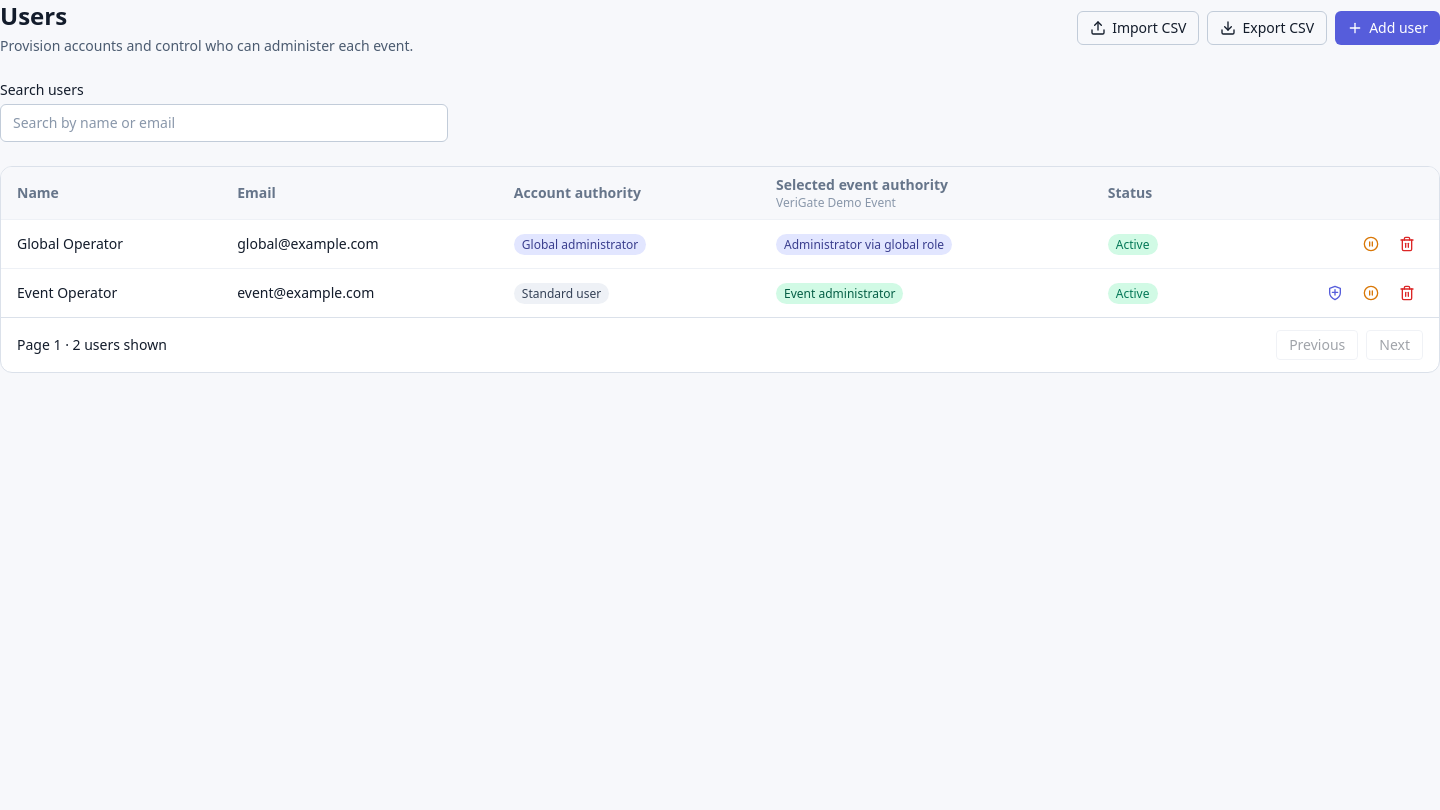
Test: event administration membership management › distinguishes global authority from event-scoped administration
Expected: the column heading "Selected event authority VeriGate Demo Event" is shown, [760,167,1092,220]
Expected: the text "Global administrator" is shown, [514,234,646,255]
Click the button named "manage event operator event administrator access" at [1335, 293], box [1319,277,1351,309]
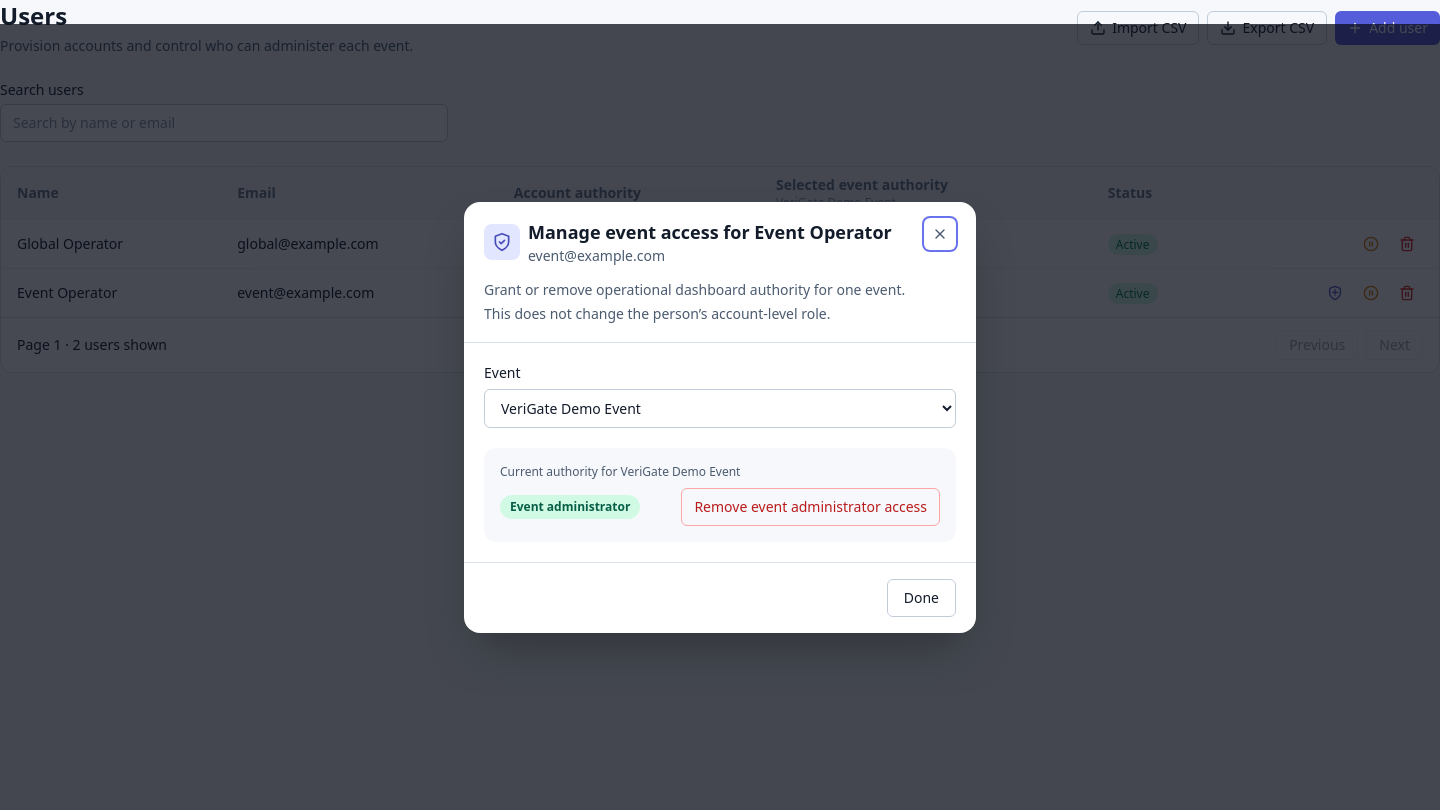
Expected: the text "Event administrator" is shown, [500,494,640,518]
Expected: the text "Current authority for VeriGate Demo Event" is shown, [500,462,740,480]
Press Escape in the dialog "Manage event access for Event Operator", box [464,202,976,632]
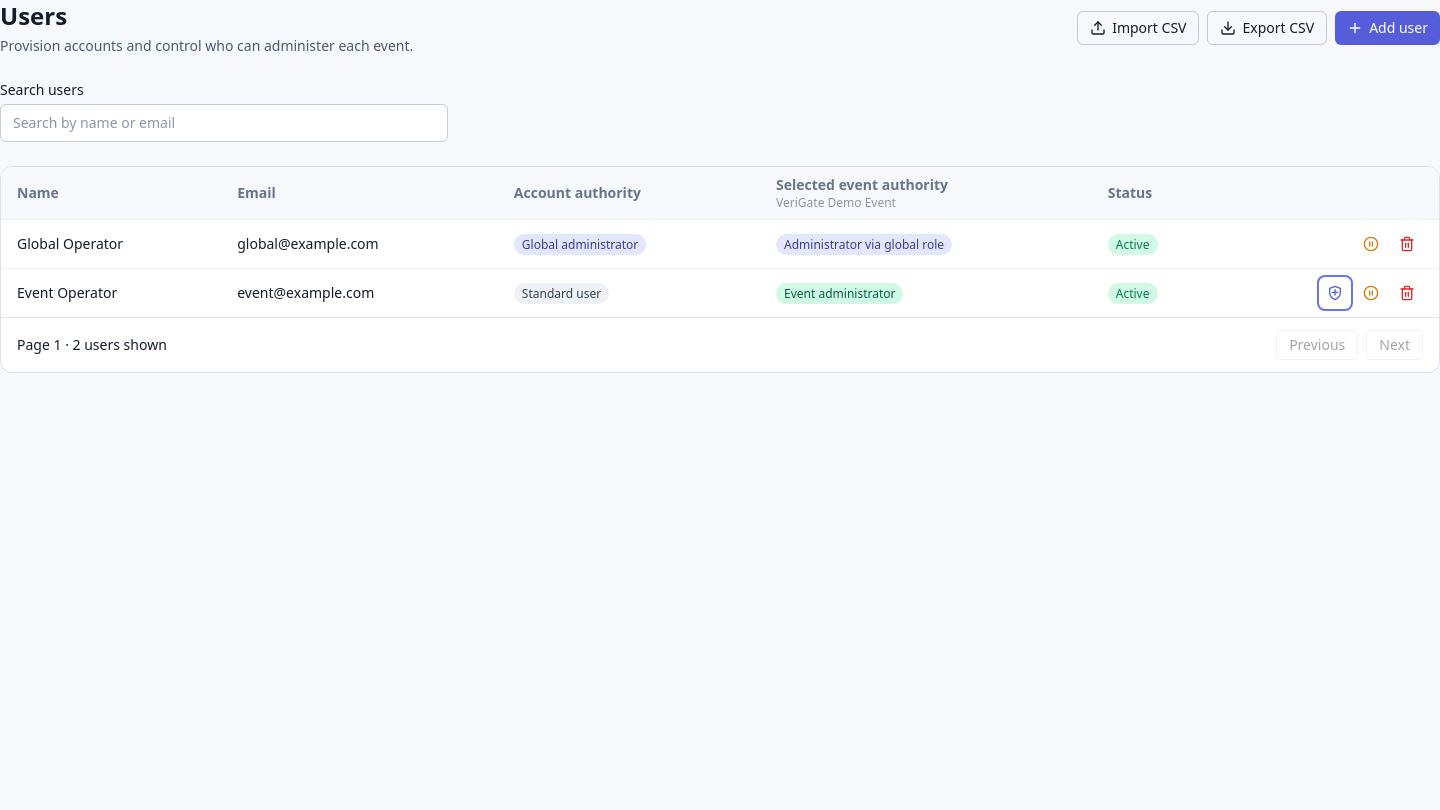
Expected: the dialog is gone
